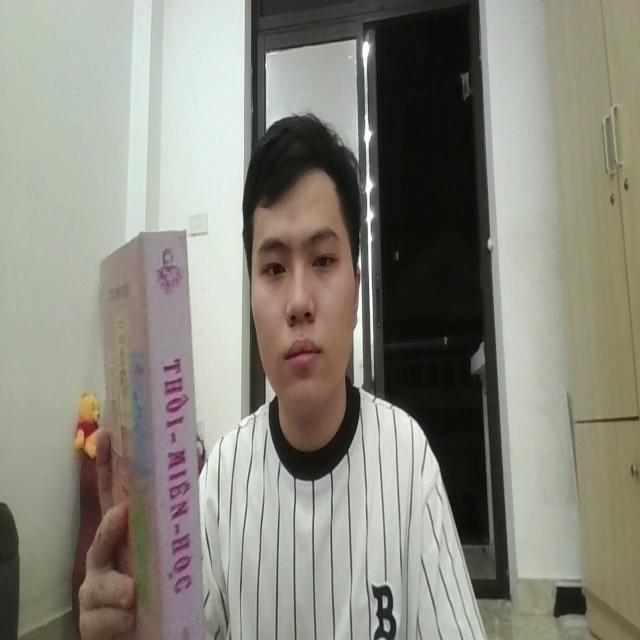book: (99, 222, 208, 640)
student: (204, 108, 488, 640)
